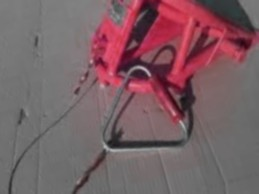chock: (65, 0, 259, 116)
